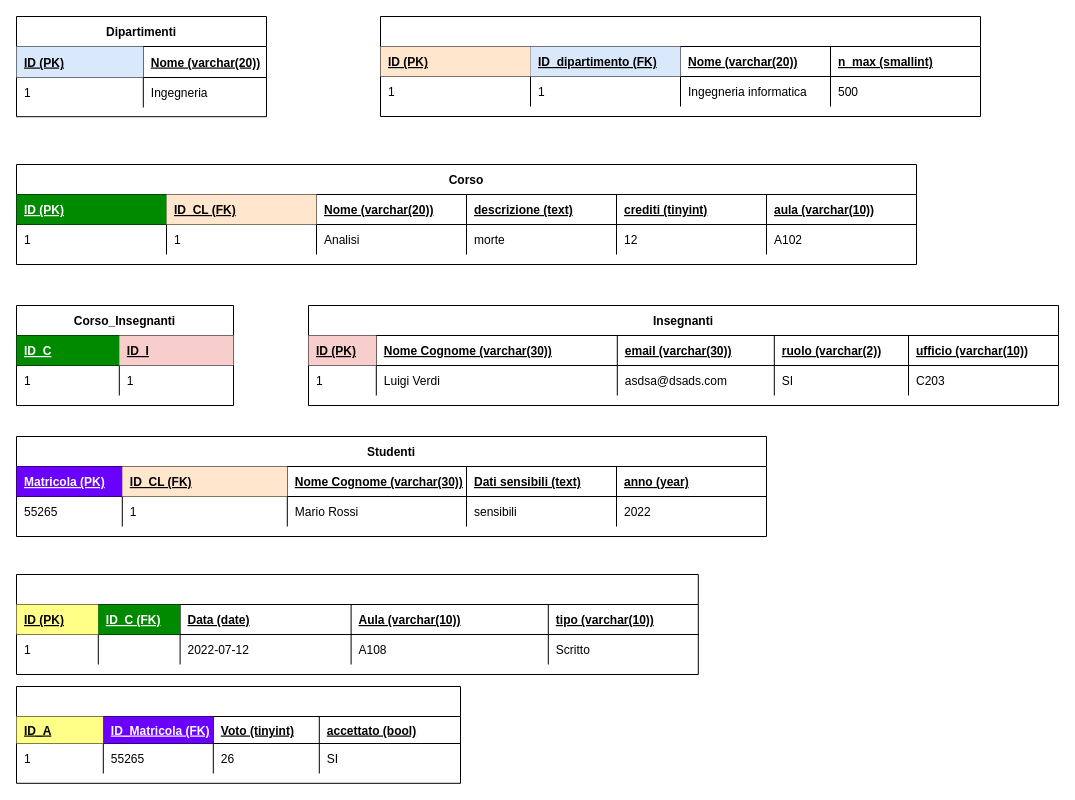
Some shapes in this 1075 by 800 pixel diagram are drawn without their labels. The shapes that lost their labels are listed below. From the top down, each one's box as (x1, y1, x2, y2) in pixels, then its label:
(380, 16, 980, 116): Corsi di Laurea
(16, 574, 698, 674): Appelli_Esami
(16, 686, 460, 783): Studenti_Appelli
